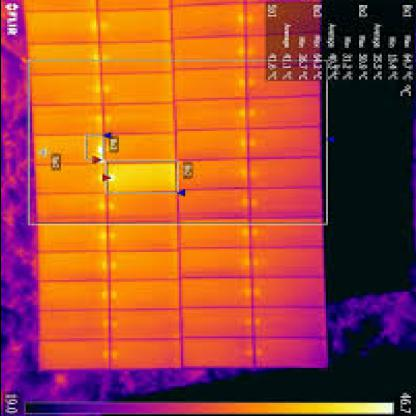Defects: (102, 166, 172, 190)
